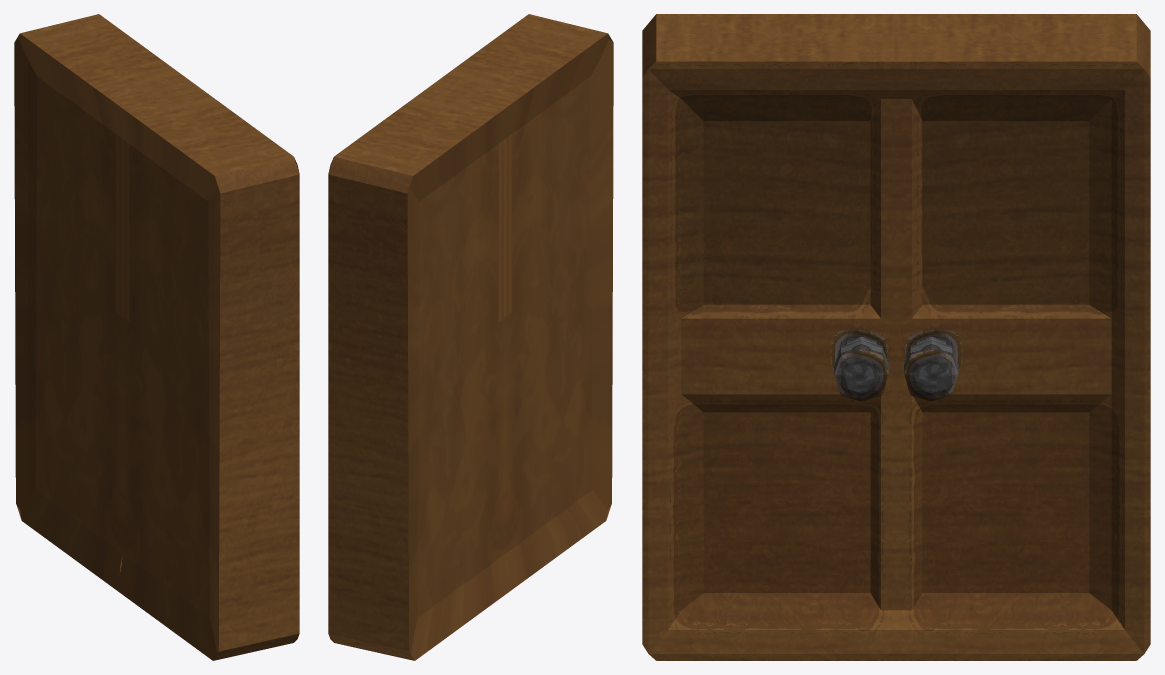
Rendered from manor_door.fbx.
3 views of the same model, side by side, from view 1: azimuth 30°, elevation 25°; view 2: azimuth 150°, elevation 25°; view 3: azimuth 270°, elevation 25° (orthographic). The views are drawn at different scales.
Visible parts, largest first — view 1: Cube.013; view 2: Cube.013; view 3: Cube.013.
Part boxes in pixels (x1,y1,x2,y2): Cube.013: [14, 14, 299, 660]; Cube.013: [328, 14, 613, 660]; Cube.013: [642, 14, 1150, 660].
Size of the model in its own units: 267 by 1194 by 918.
